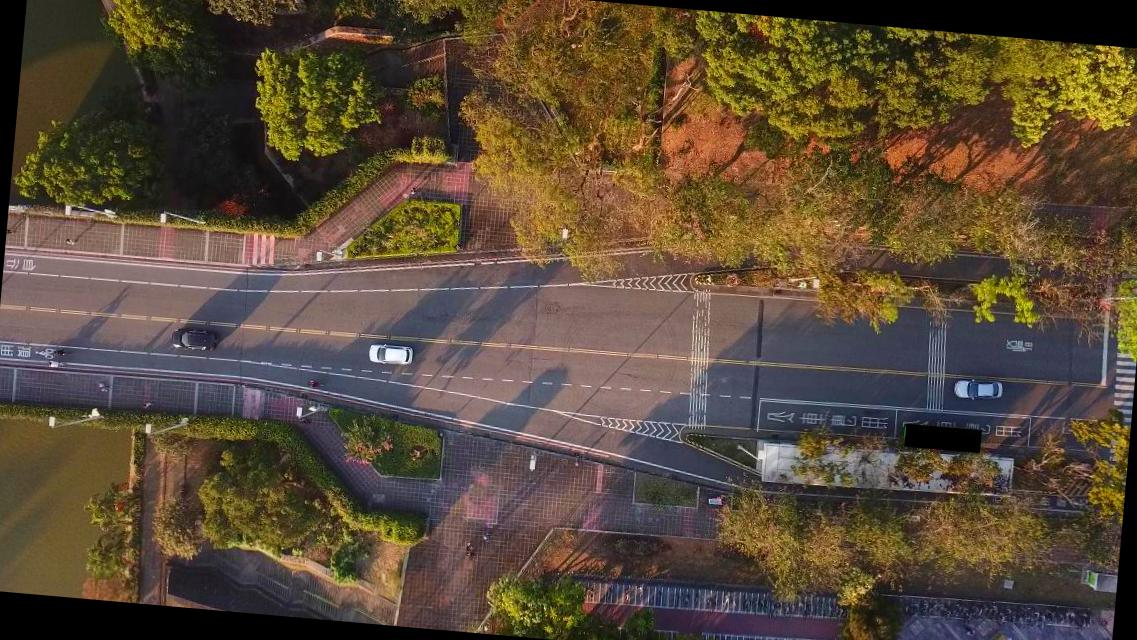vehicle: (952, 378, 1002, 402), (368, 342, 414, 368), (170, 328, 218, 352)
